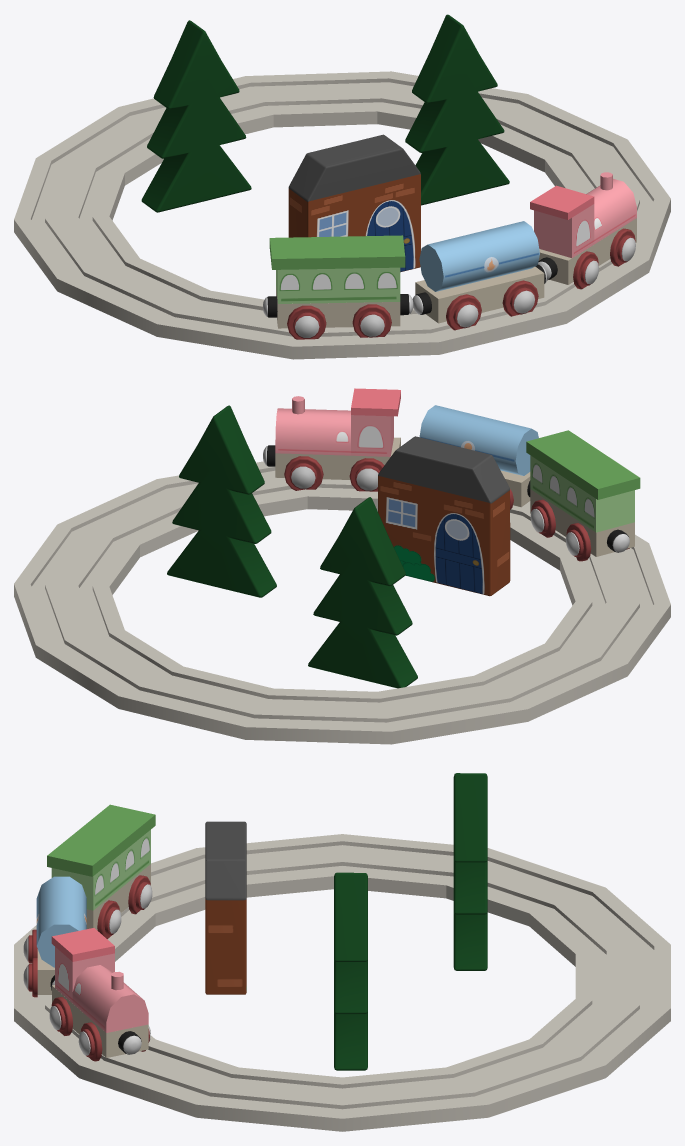
The model's file is TrainSet.fbx.
3 renders of one model, top to bottom at view 1: azimuth 30°, elevation 25°; view 2: azimuth 150°, elevation 25°; view 3: azimuth 270°, elevation 25°, orthographic. The views are drawn at different scales.
Parts seen in each view (by area): view 1: FullSet; view 2: FullSet; view 3: FullSet.
Part boxes in pixels (box(x1,y1,x2,y2)): FullSet: box(14, 14, 670, 359); FullSet: box(14, 388, 670, 744); FullSet: box(14, 773, 670, 1131).
Bounding box in the file's own units: 672 × 192 × 655.
